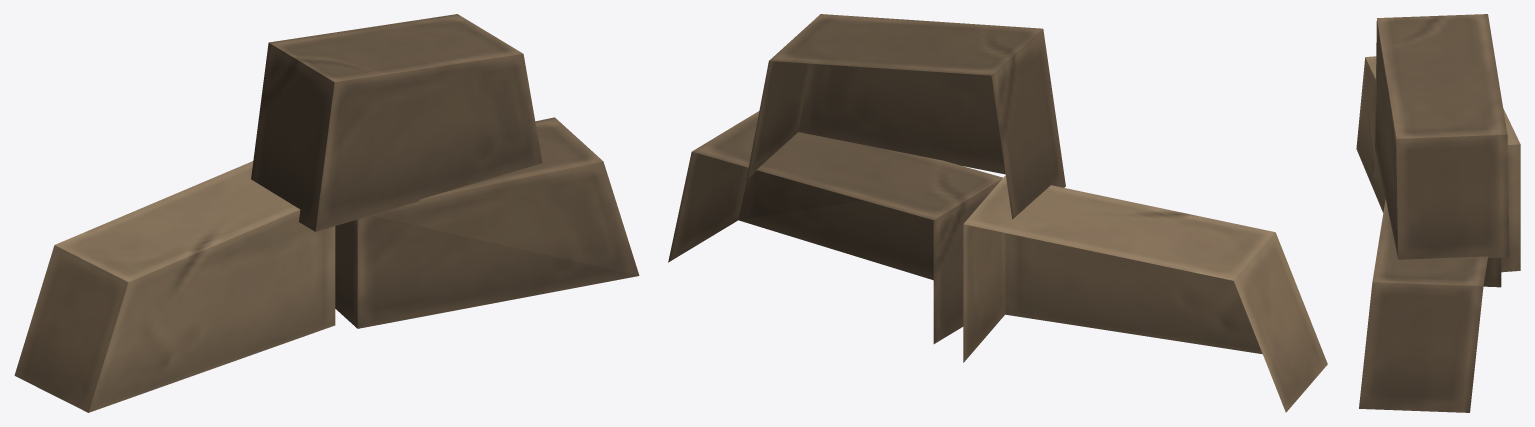
The model's file is desert_dungeon_prop_16.FBX.
The picture shows the model from 3 angles, left to right: view 1: azimuth 30°, elevation 25°; view 2: azimuth 150°, elevation 25°; view 3: azimuth 270°, elevation 25°; orthographic projection. The views are drawn at different scales.
Parts seen in each view (by area): view 1: Object024; view 2: Object024; view 3: Object024.
Boxes of the visible parts, x1=… form: Object024: x1=14, y1=14, x2=639, y2=412; Object024: x1=668, y1=14, x2=1327, y2=412; Object024: x1=1356, y1=14, x2=1520, y2=412.
Bounding box in the file's own units: 51.27 × 13 × 22.05.
